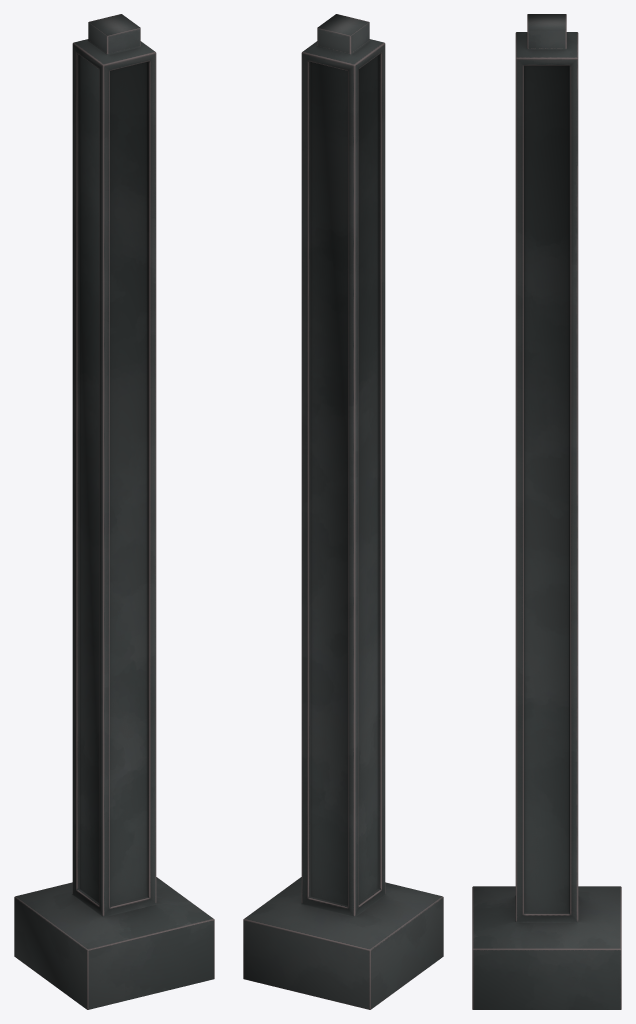
The model's file is metalPart1.fbx.
3 views of the same model, side by side, from view 1: azimuth 30°, elevation 25°; view 2: azimuth 150°, elevation 25°; view 3: azimuth 270°, elevation 25° (orthographic).
Visible parts, largest first — view 1: platform_base; view 2: platform_base; view 3: platform_base.
Boxes of the visible parts, box(x1,y1,x2,y2) form: platform_base: box(14, 14, 214, 1009); platform_base: box(243, 14, 443, 1009); platform_base: box(472, 14, 621, 1009).
Bounding box in the file's own units: 40.2 × 284 × 40.2.
1 material, 1 textured.
